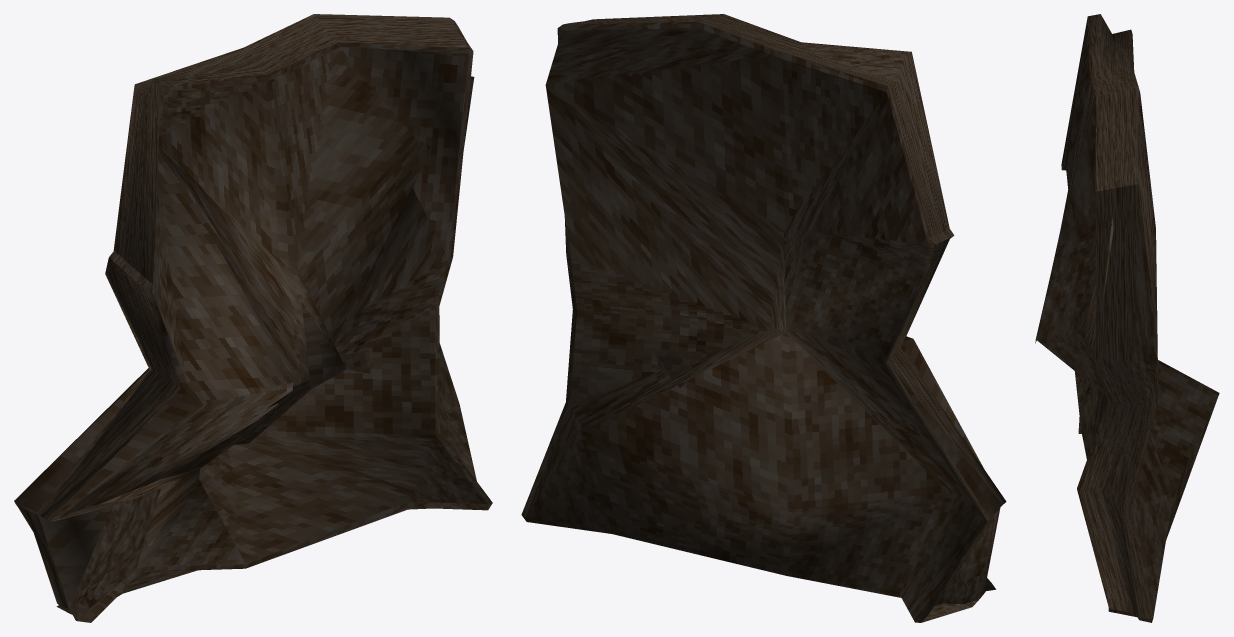
Rendered from wall_plate5.glb.
3 views of the same model, side by side, from view 1: azimuth 30°, elevation 25°; view 2: azimuth 150°, elevation 25°; view 3: azimuth 270°, elevation 25° (orthographic). The views are drawn at different scales.
Visible parts, largest first — view 1: Cube; view 2: Cube; view 3: Cube.
Part boxes in pixels (x1=…): Cube: x1=14, y1=14, x2=492, y2=622; Cube: x1=521, y1=14, x2=1006, y2=622; Cube: x1=1035, y1=14, x2=1219, y2=622.
Size of the model in its own units: 0.9244 by 1.03 by 0.3642.
1 material, 1 textured.
